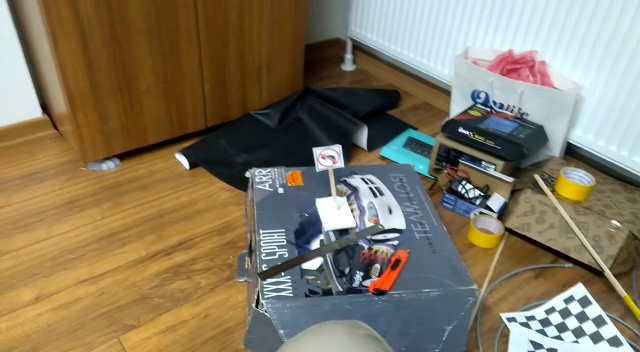sola_donulmez: (317, 146, 342, 170)
